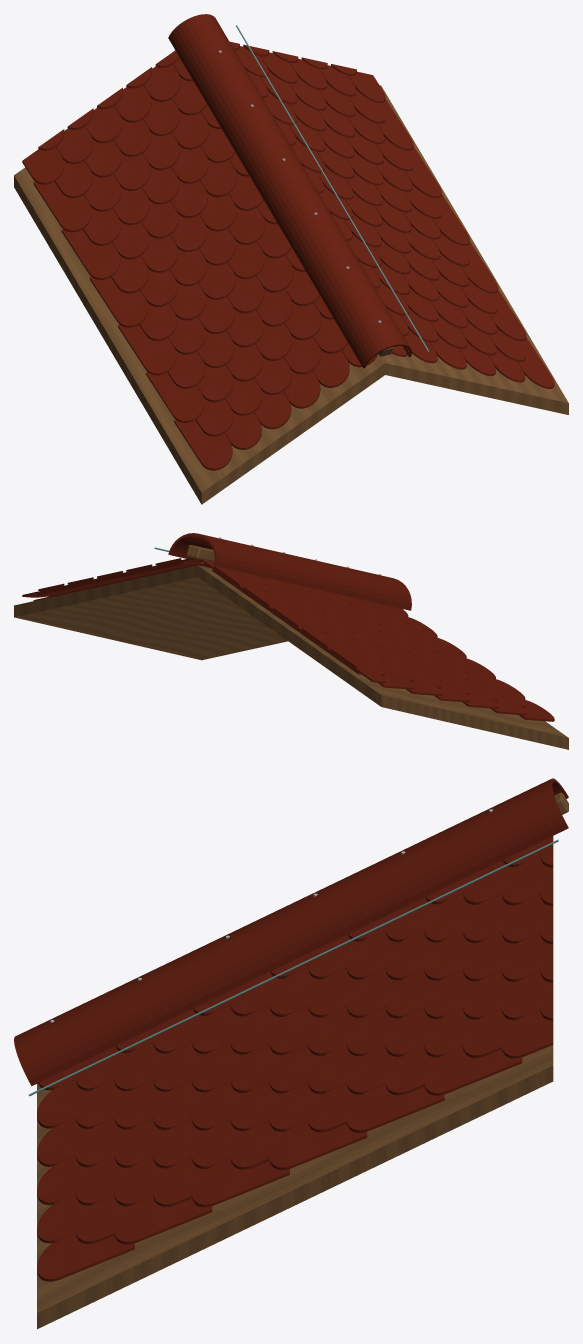
The model's file is modell.glb.
3 views of the same model, one above another, from view 1: azimuth 30°, elevation 25°; view 2: azimuth 150°, elevation 25°; view 3: azimuth 270°, elevation 25° (orthographic). The views are drawn at different scales.
Visible parts, largest first — view 1: w04-ziegel_deckung, w04-gratziegel_deckung, w04-walmflaeche_tragwerk, w04-bezuege_; view 2: w04-walmflaeche_tragwerk, w04-ziegel_deckung, w04-gratziegel_deckung, w04-gratlatte_lattung; view 3: w04-ziegel_deckung, w04-gratziegel_deckung, w04-walmflaeche_tragwerk, w04-bezuege_.
Part boxes in pixels (bbox=[...]): w04-ziegel_deckung: bbox=[22, 41, 554, 470]; w04-gratziegel_deckung: bbox=[168, 14, 411, 368]; w04-walmflaeche_tragwerk: bbox=[14, 85, 568, 504]; w04-bezuege_: bbox=[236, 25, 429, 352]; w04-walmflaeche_tragwerk: bbox=[14, 565, 568, 749]; w04-ziegel_deckung: bbox=[22, 558, 554, 721]; w04-gratziegel_deckung: bbox=[168, 533, 411, 610]; w04-gratlatte_lattung: bbox=[186, 545, 214, 561]; w04-ziegel_deckung: bbox=[37, 836, 553, 1281]; w04-gratziegel_deckung: bbox=[14, 778, 568, 1085]; w04-walmflaeche_tragwerk: bbox=[37, 1045, 553, 1329]; w04-bezuege_: bbox=[29, 839, 558, 1096].
Bounding box in the file's own units: 2.26 × 1.81 × 2.15.
4 materials, 2 textured.
